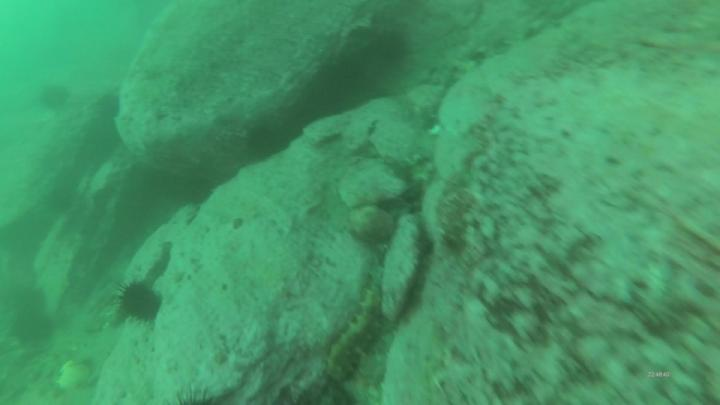echinus: (111, 279, 163, 326), (8, 303, 57, 350), (368, 27, 411, 69), (241, 124, 283, 164), (85, 120, 121, 163), (38, 84, 76, 114), (94, 91, 123, 124)
holothurian: (325, 273, 387, 385)
